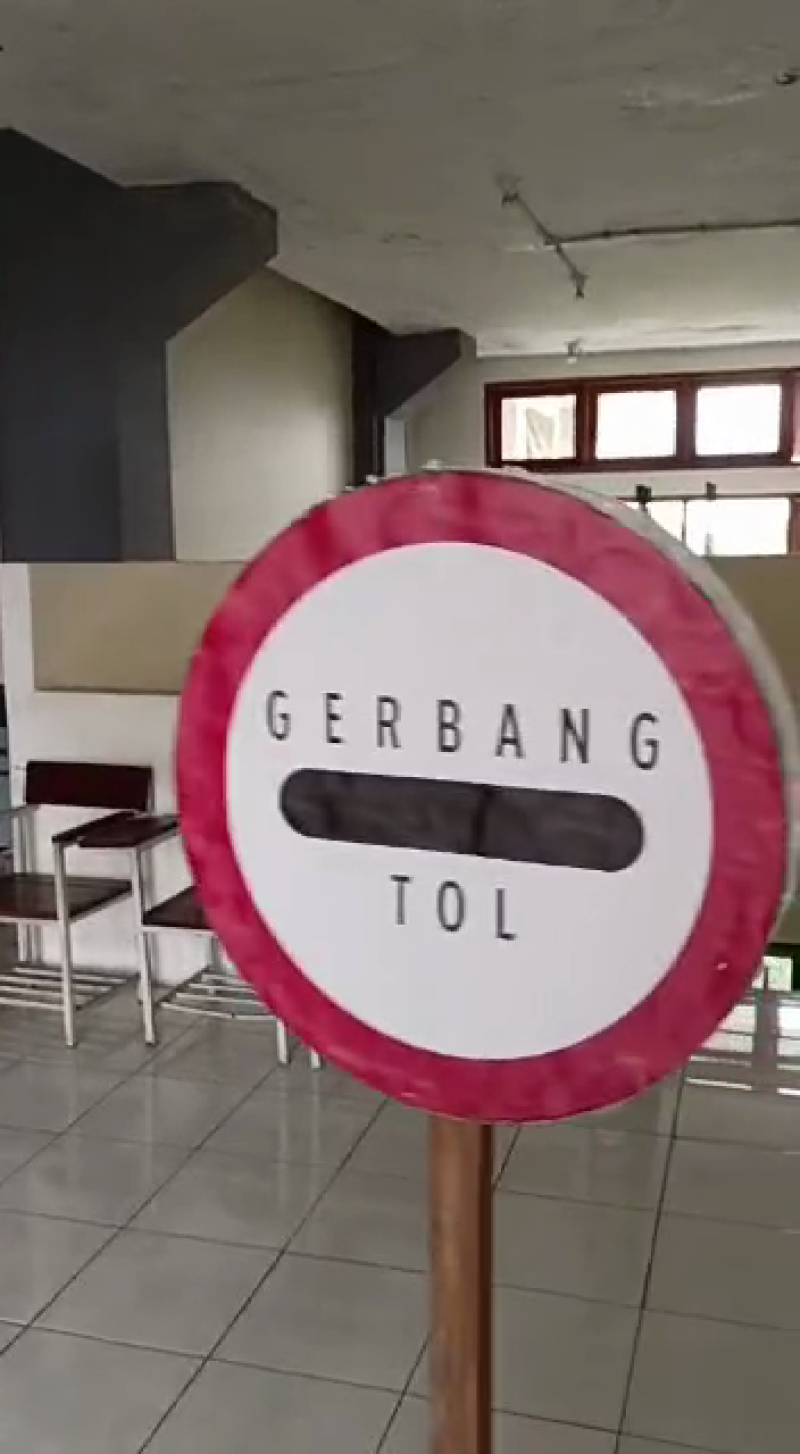gerbang tol: (165, 453, 800, 1186)
